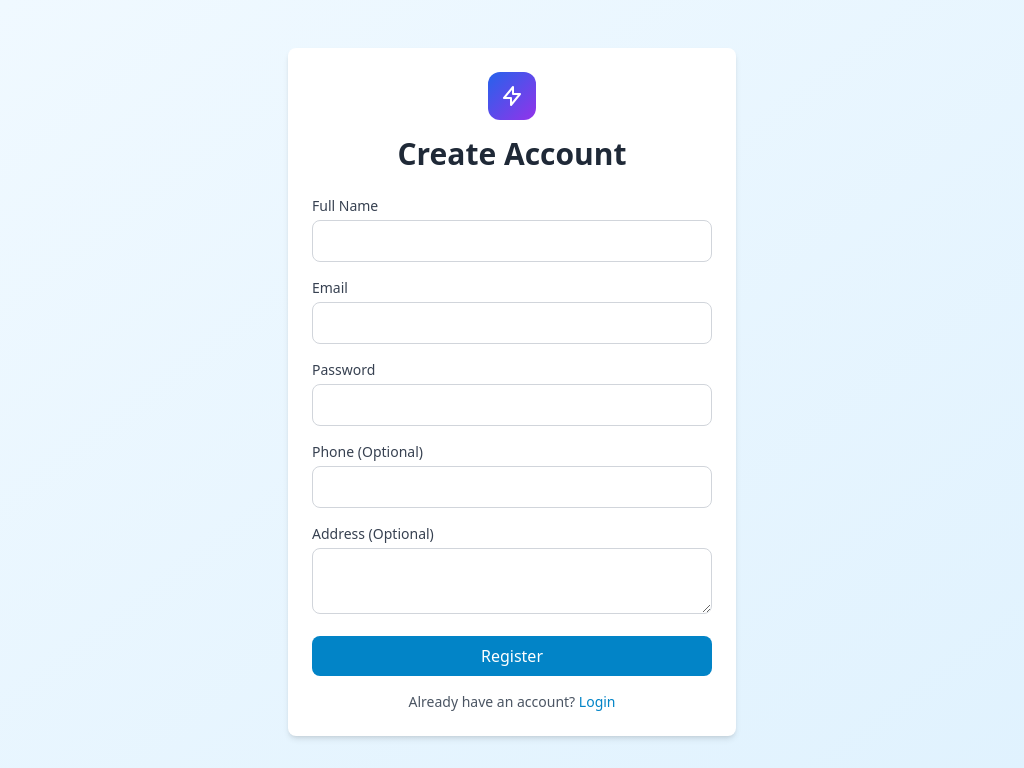
Test case: Register Page › disables submit button while loading
The width and height of the screenshot is (1024, 768).
Type "John Doe" into the field labelled "Full Name".
click(512, 241); type("John Doe")  # box top-left (312, 220), bottom-right (712, 262)
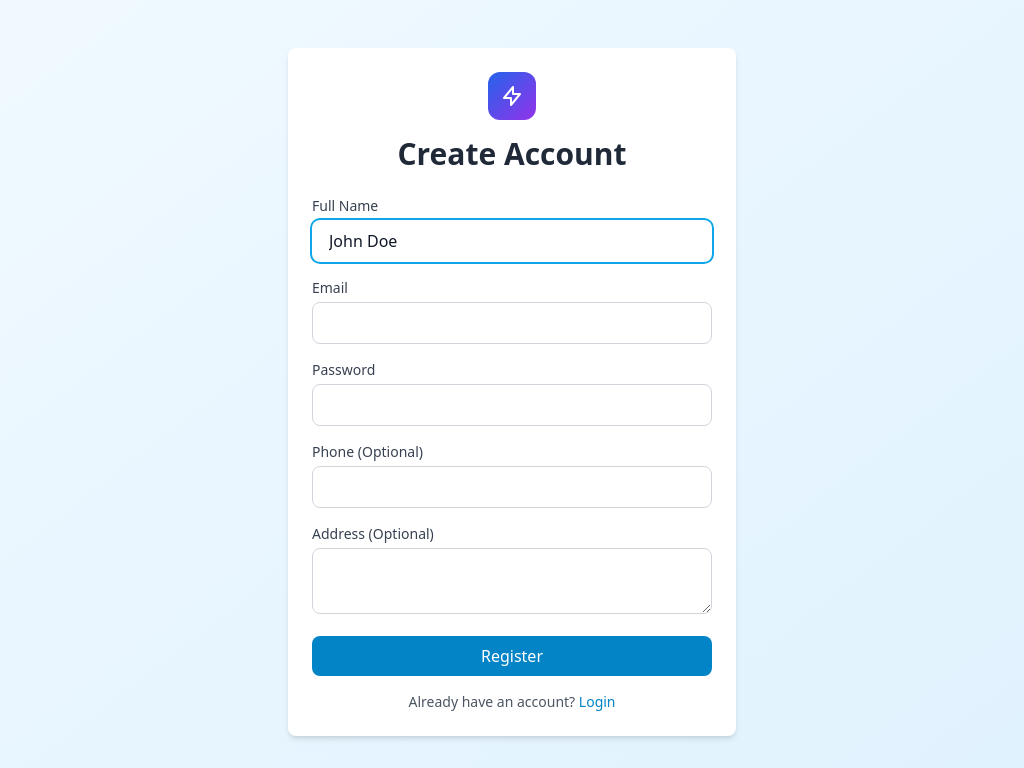
Type "john@example.com" into the field labelled "Email".
click(512, 323); type("john@example.com")  # box top-left (312, 302), bottom-right (712, 344)
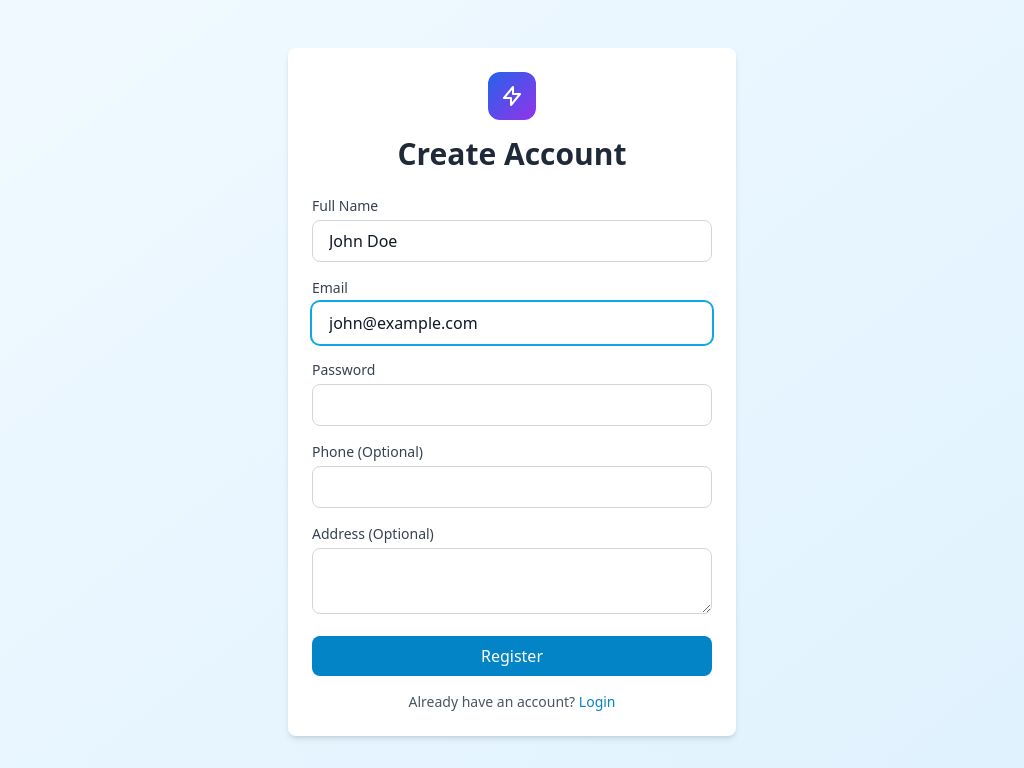
Type "password123" into the password field labelled "Password".
click(512, 405); type("password123")  # box top-left (312, 384), bottom-right (712, 426)
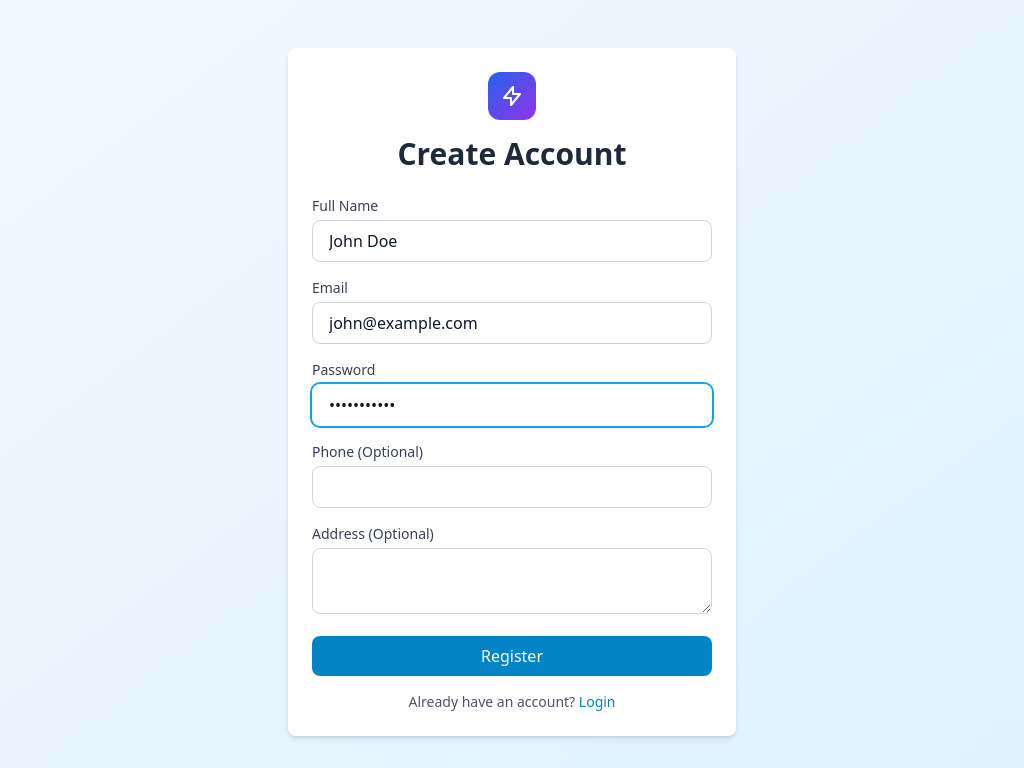
Click the button "Register".
click(512, 656)  # box top-left (312, 636), bottom-right (712, 676)
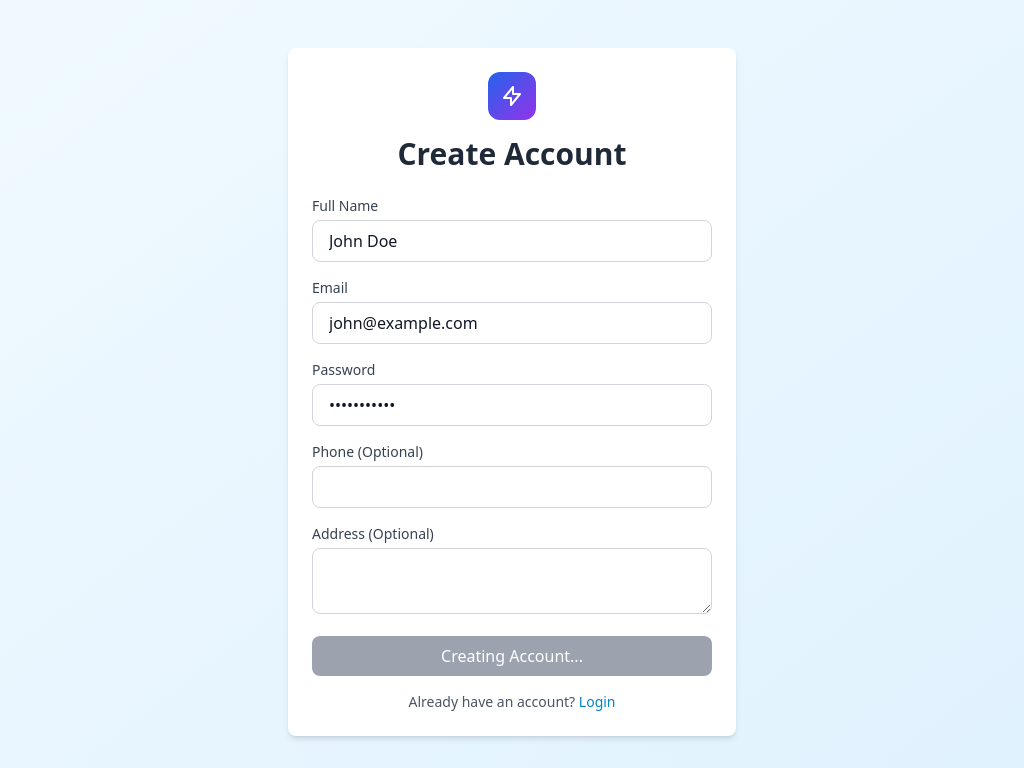
Expected: the button named "register" is disabled, top-left (312, 636), bottom-right (712, 676)
